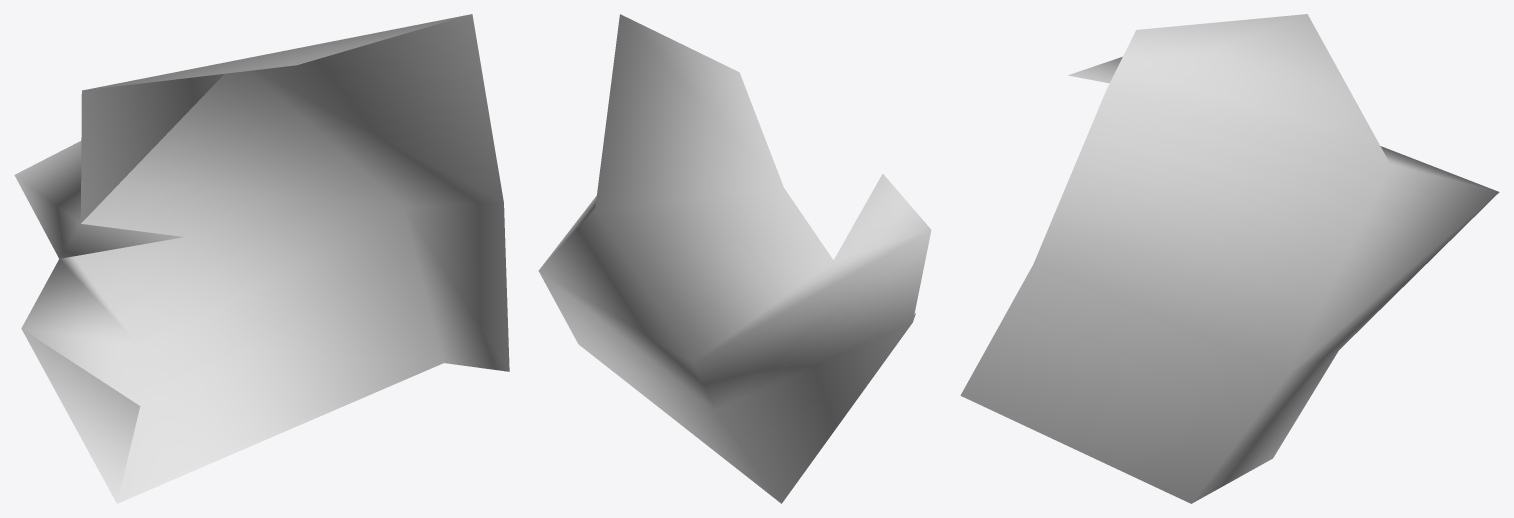
File: Hamburger_Paper.fbx
3 renders of one model, left to right at view 1: azimuth 30°, elevation 25°; view 2: azimuth 150°, elevation 25°; view 3: azimuth 270°, elevation 25°, orthographic. The views are drawn at different scales.
Visible parts, largest first — view 1: polySurface1; view 2: polySurface1; view 3: polySurface1.
Part boxes in pixels (x1=…): polySurface1: x1=14, y1=14, x2=509, y2=503; polySurface1: x1=538, y1=14, x2=931, y2=503; polySurface1: x1=960, y1=14, x2=1499, y2=503.
Size of the model in its own units: 74.29 by 80.69 by 76.91.
